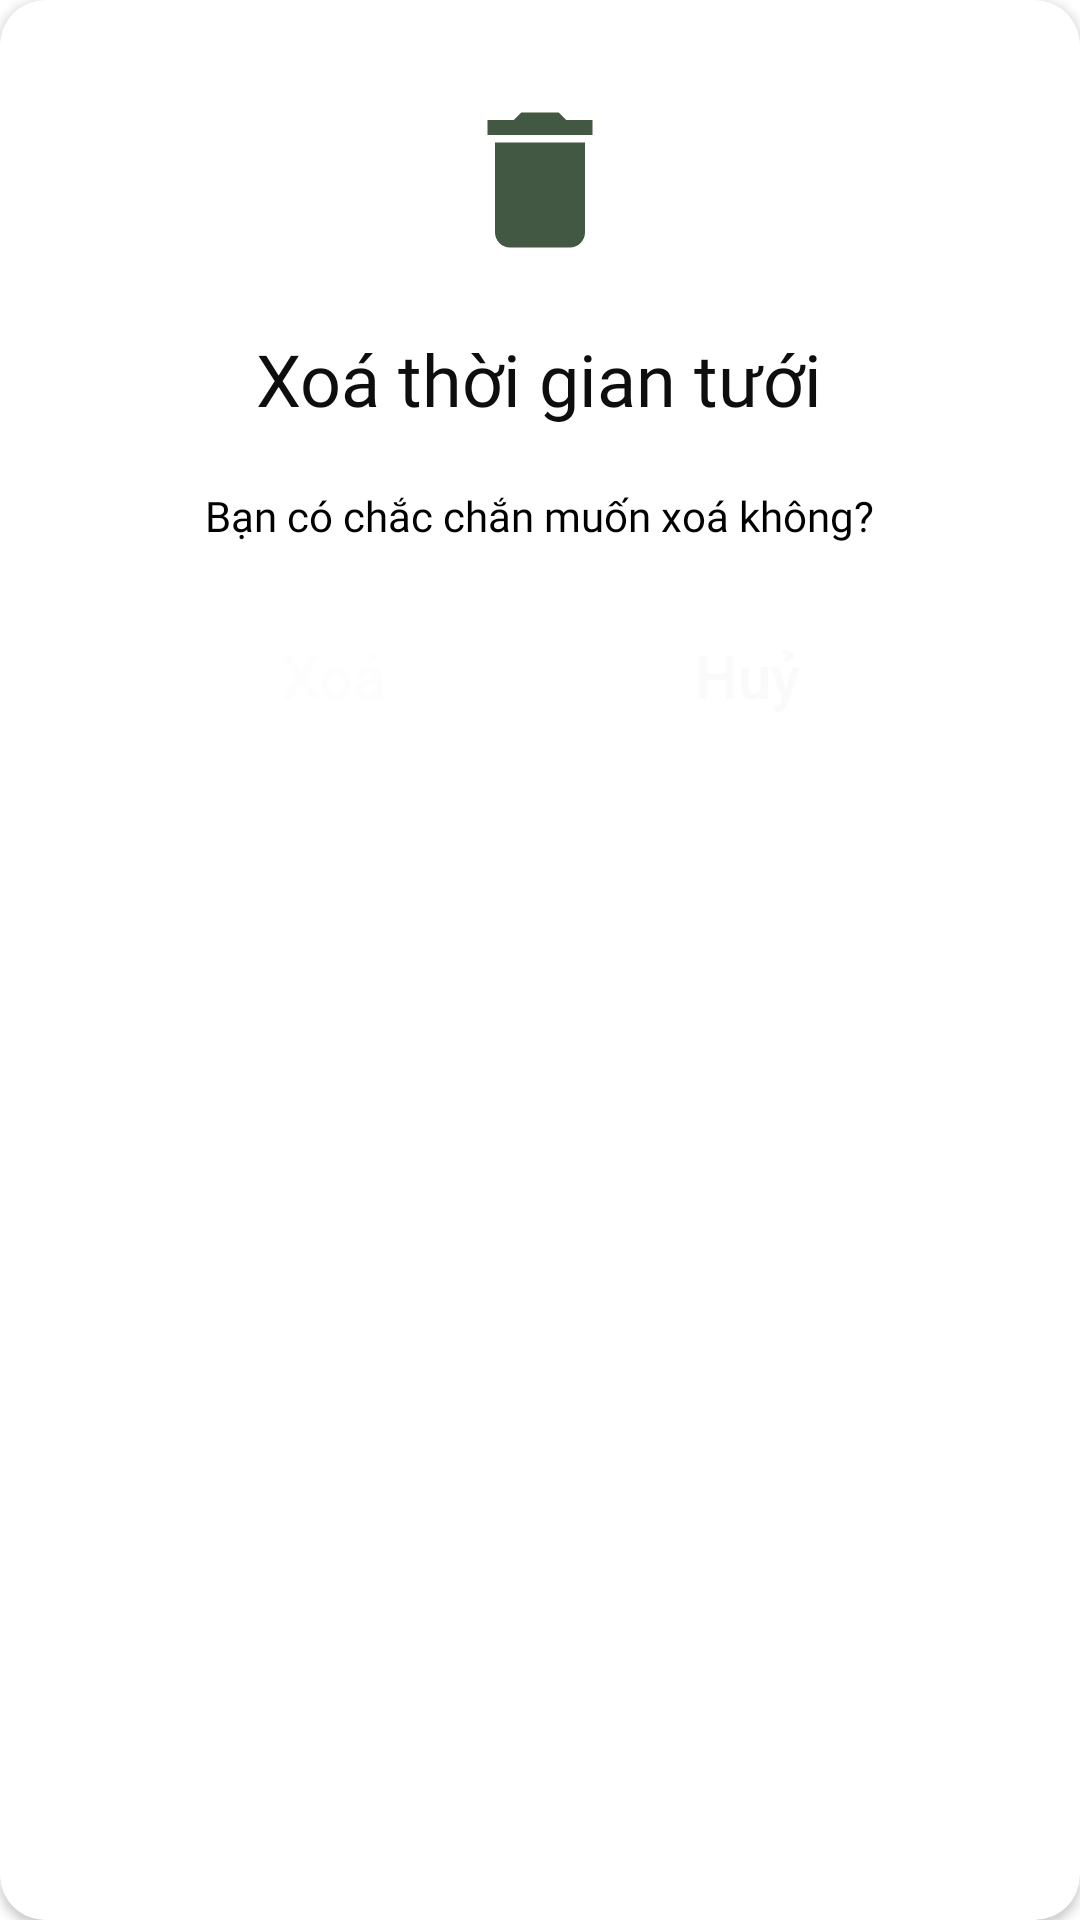

Icon click points for this 1080px×1920px phone screenshot, format (x,y):
delete: (540,180)
